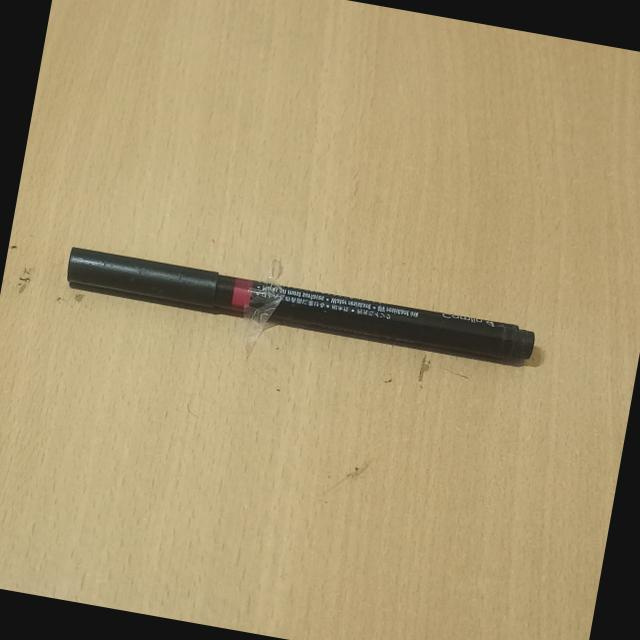marker: (51, 222, 556, 380)
